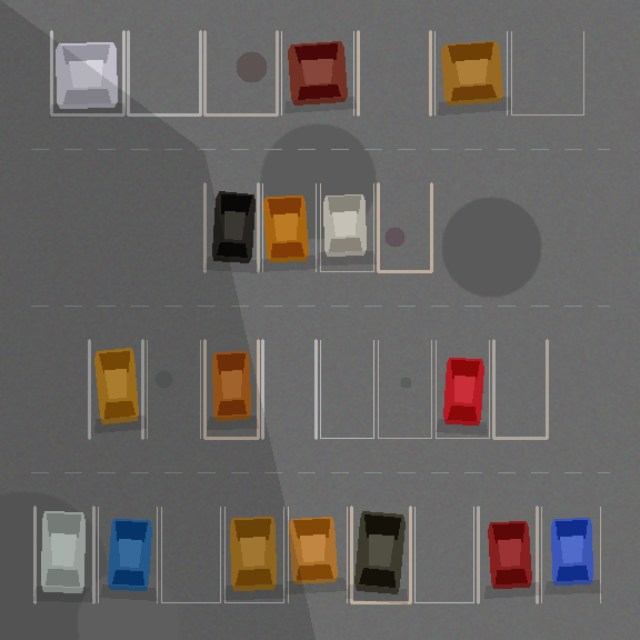space-empty: (204, 31, 277, 114), (128, 31, 200, 114), (358, 31, 430, 114), (511, 31, 583, 114), (161, 507, 220, 602), (414, 507, 473, 602), (262, 340, 316, 438), (493, 340, 547, 438), (147, 340, 200, 438), (320, 340, 373, 438), (378, 340, 431, 438), (378, 183, 431, 271)
space-occupied: (434, 31, 507, 114), (51, 31, 123, 114), (281, 31, 353, 114), (34, 507, 93, 602), (98, 507, 157, 602), (224, 507, 283, 602), (288, 507, 347, 602), (351, 507, 410, 602), (478, 507, 537, 602), (541, 507, 600, 602), (204, 340, 258, 438), (89, 340, 142, 438), (436, 340, 489, 438), (204, 183, 258, 271), (262, 183, 316, 271), (320, 183, 373, 271)
